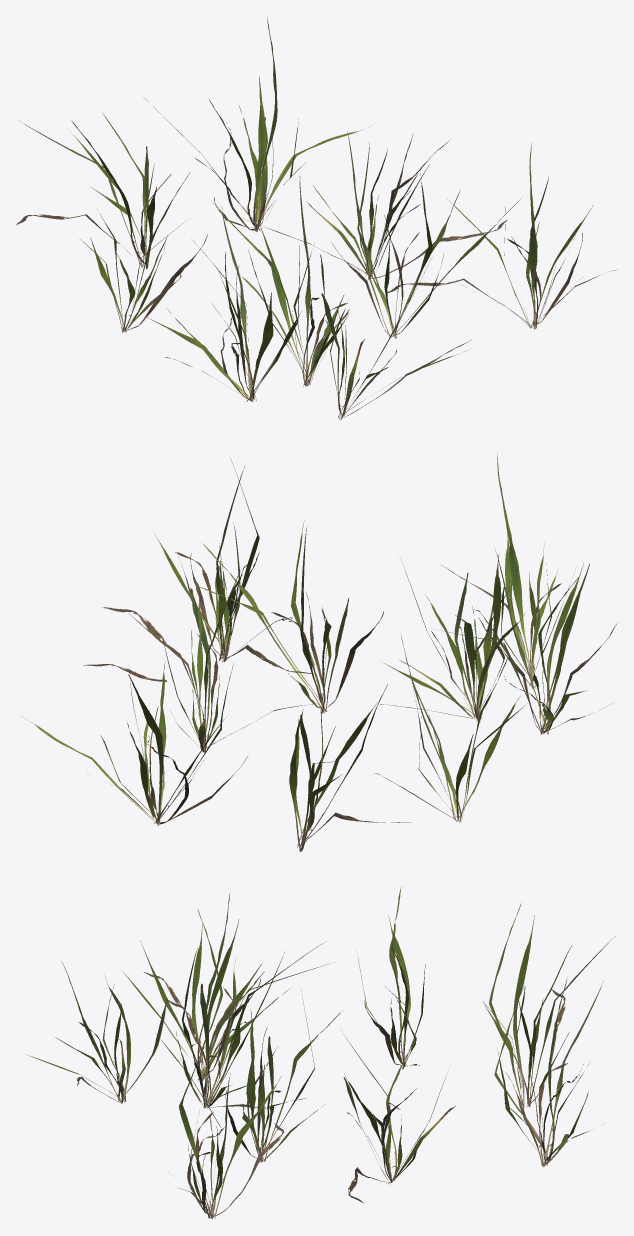
Rendered from Grass_04_Var3_LOD1.fbx.
3 renders of one model, top to bottom at view 1: azimuth 30°, elevation 25°; view 2: azimuth 150°, elevation 25°; view 3: azimuth 270°, elevation 25°, orthographic. The views are drawn at different scales.
Visible parts, largest first — view 1: Var3_LOD1; view 2: Var3_LOD1; view 3: Var3_LOD1.
Boxes of the visible parts, x1,y1,x2,y2 form: Var3_LOD1: (16, 17, 617, 420); Var3_LOD1: (21, 453, 617, 851); Var3_LOD1: (26, 886, 615, 1218).
Bounding box in the file's own units: 55.5 × 24.98 × 67.08.
